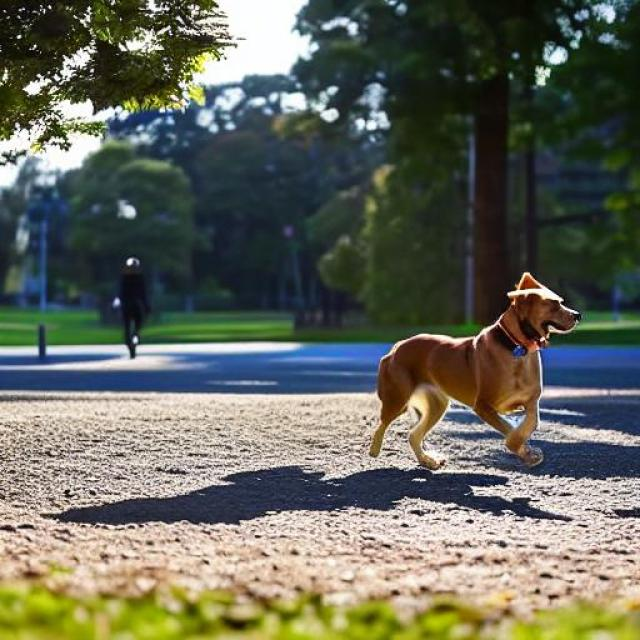Dog: (368, 272, 582, 470)
